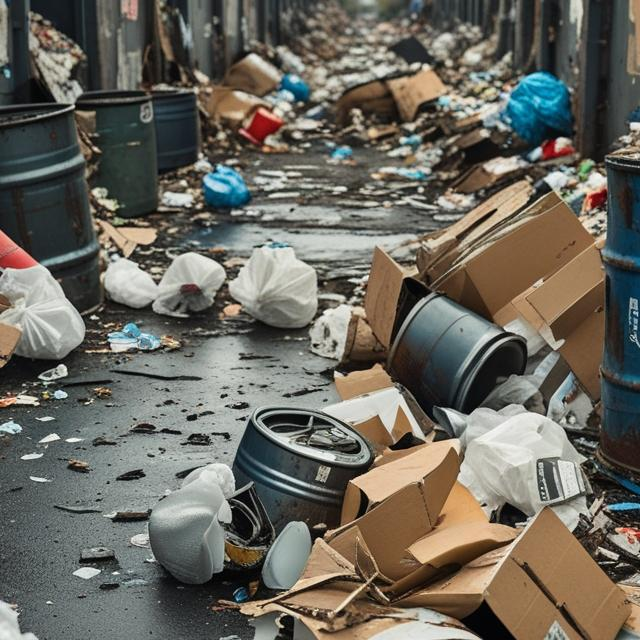metal: (0, 122, 103, 318)
plastic: (235, 246, 329, 332)
